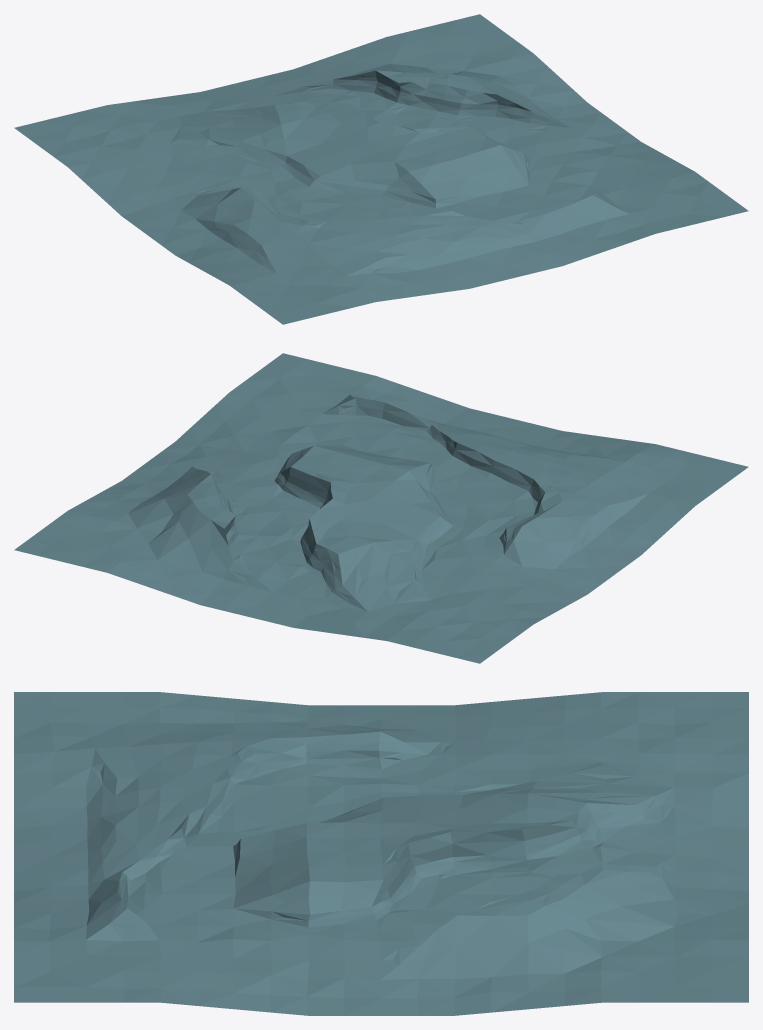
File: Terrain_c_ice.FBX
The picture shows the model from 3 angles, top to bottom: view 1: azimuth 30°, elevation 25°; view 2: azimuth 150°, elevation 25°; view 3: azimuth 270°, elevation 25°; orthographic projection. The views are drawn at different scales.
Parts seen in each view (by area): view 1: Terrain_c_ice; view 2: Terrain_c_ice; view 3: Terrain_c_ice.
Boxes of the visible parts, <box> form: Terrain_c_ice: <box>14,14,748,324</box>; Terrain_c_ice: <box>14,353,748,663</box>; Terrain_c_ice: <box>14,692,748,1015</box>.
Size of the model in its own units: 100 by 6.73 by 100.
